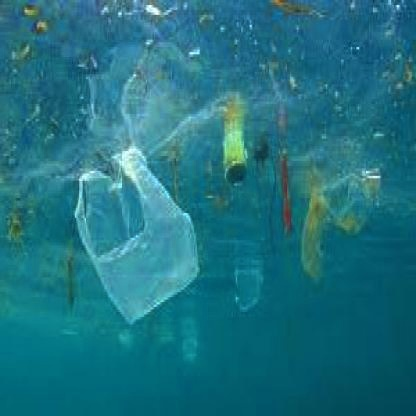can: (221, 111, 252, 186)
pbag: (65, 141, 203, 329), (292, 161, 396, 287)
